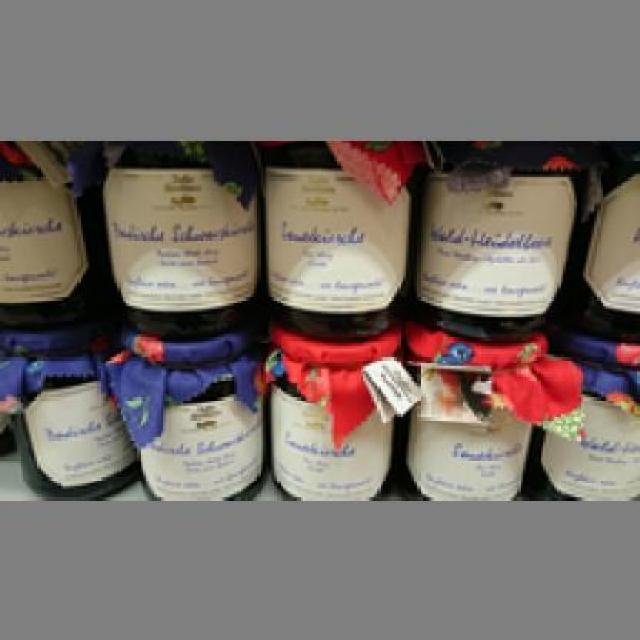Jam: (257, 137, 426, 340), (417, 140, 583, 340), (94, 140, 257, 334), (100, 328, 263, 498), (402, 320, 552, 494), (260, 326, 406, 497), (0, 328, 137, 498), (0, 140, 103, 326), (536, 328, 632, 494)
